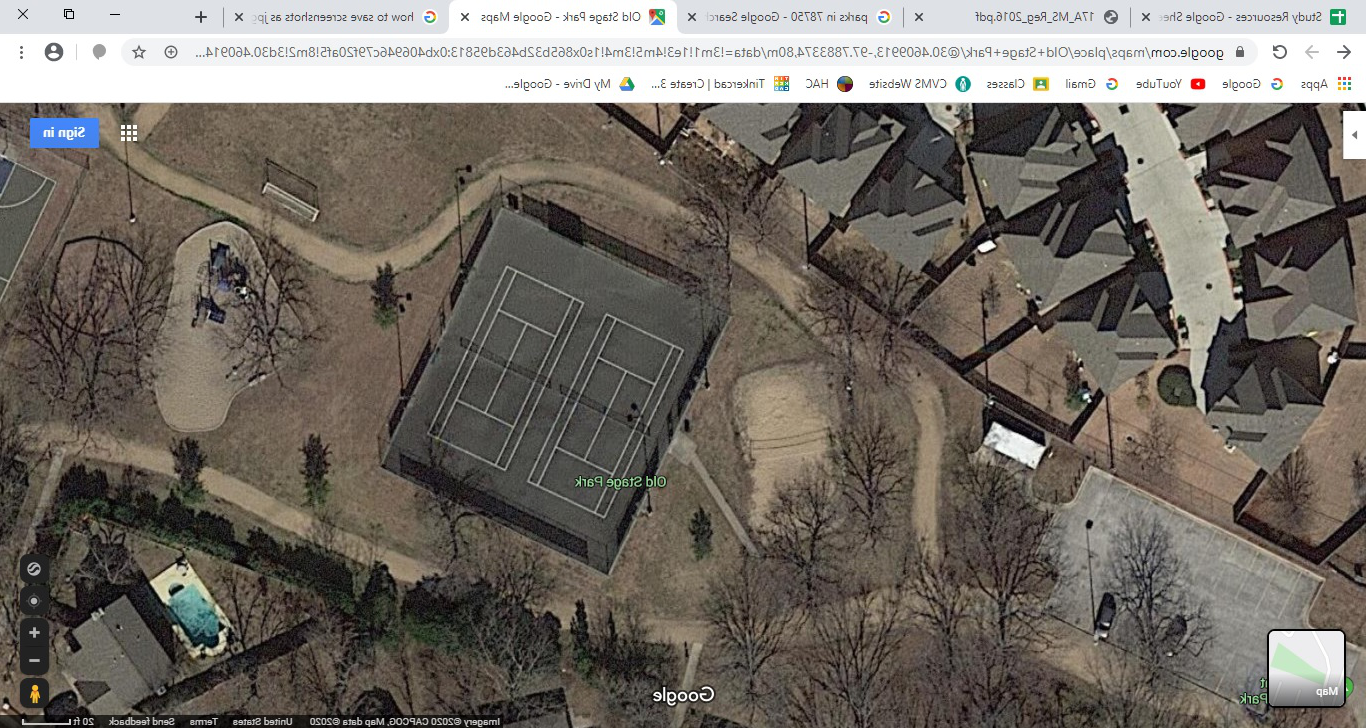tennis: (422, 248, 564, 466)
